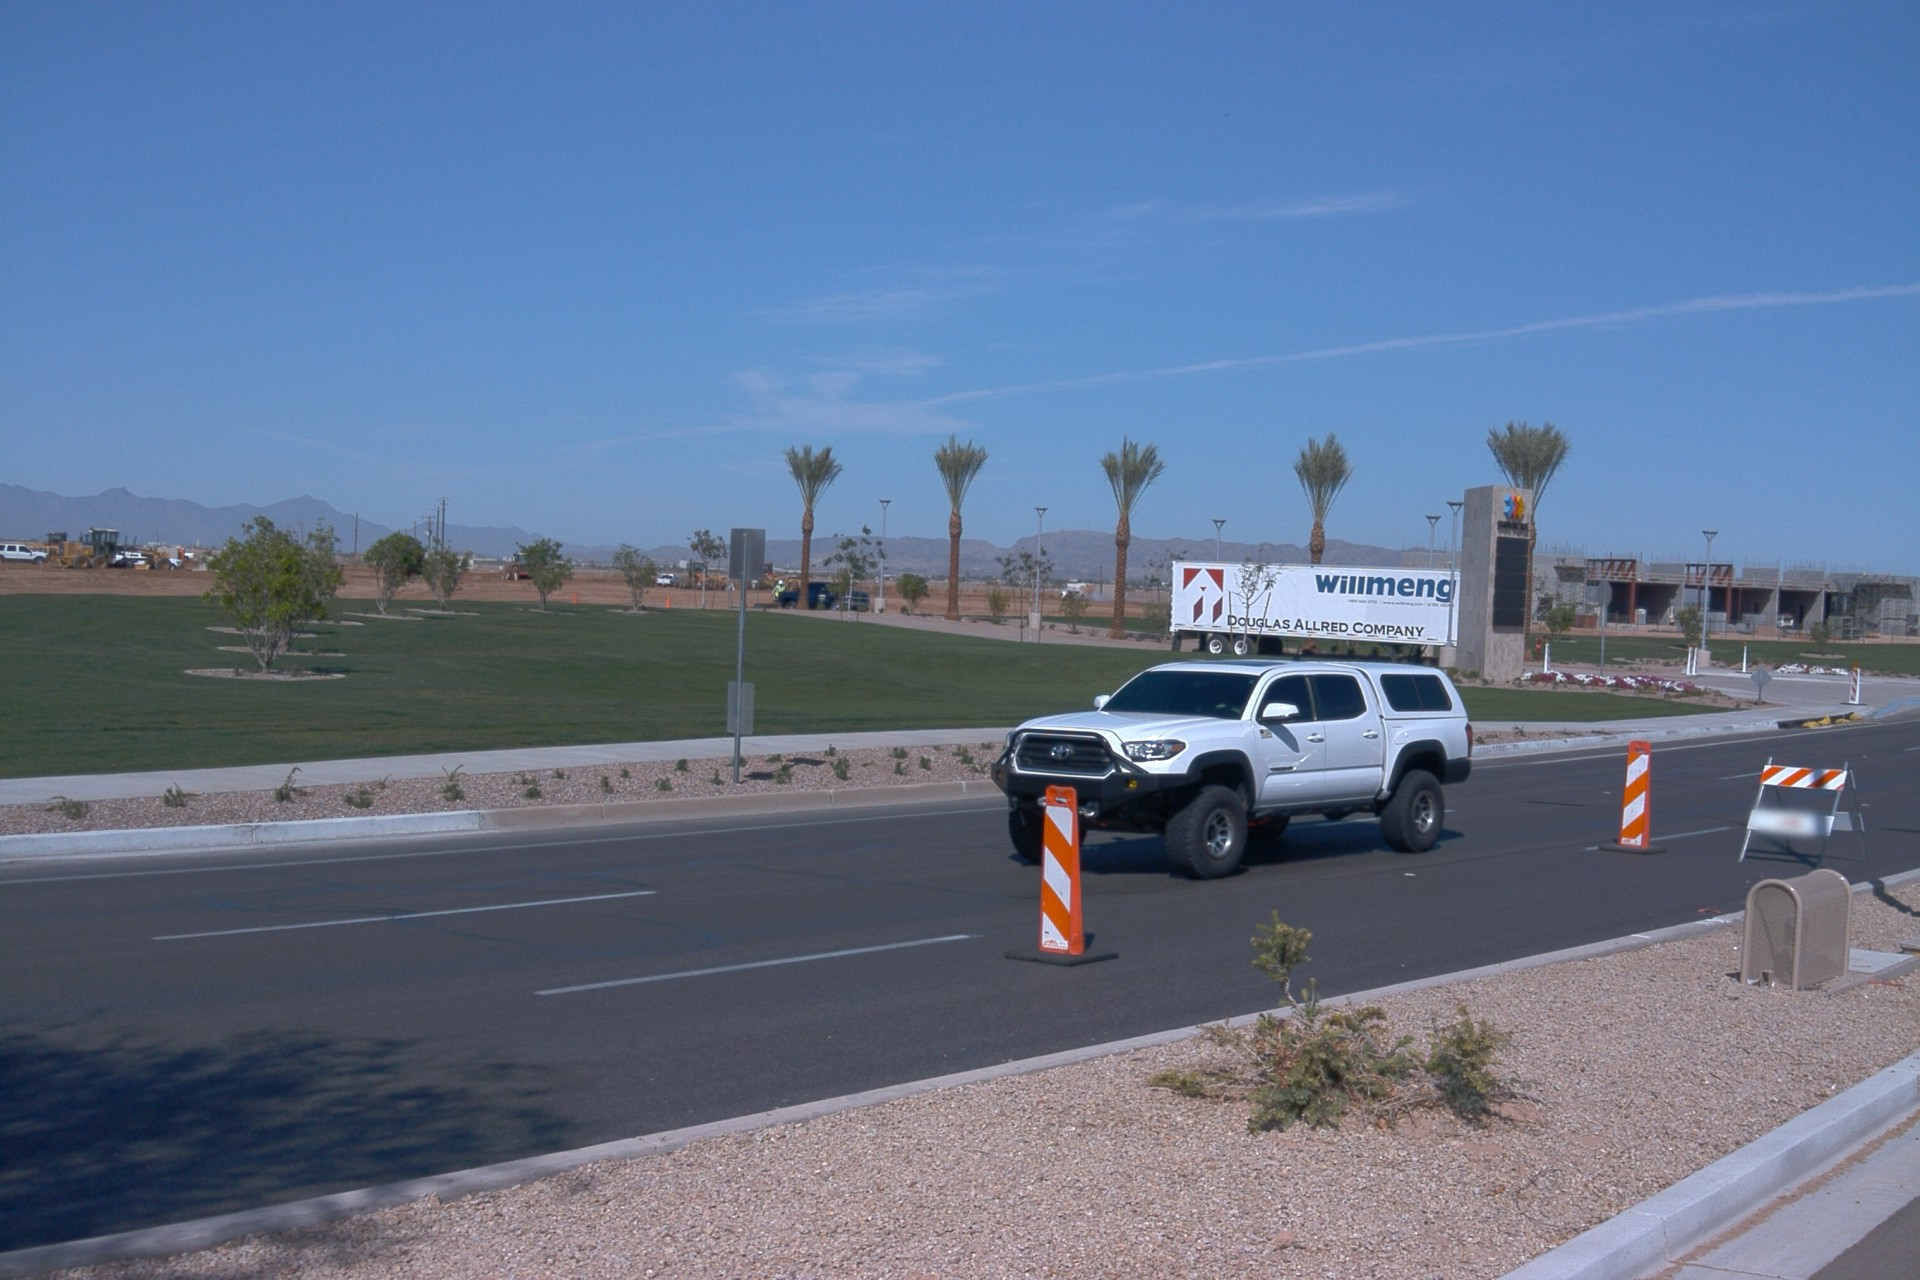TYPE_PEDESTRIAN: (771, 581, 787, 603), (650, 573, 658, 589)
TYPE_VEHICLE: (989, 652, 1476, 880), (1167, 553, 1461, 657), (40, 523, 152, 570), (784, 580, 877, 612), (112, 549, 185, 570), (508, 550, 543, 584), (0, 543, 48, 563), (1051, 577, 1095, 597), (224, 555, 258, 575), (658, 575, 681, 589), (181, 554, 194, 560)
